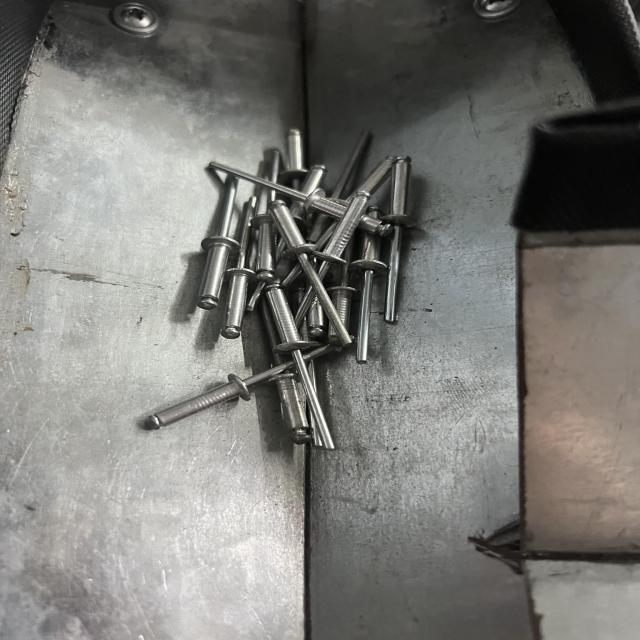rivet: (264, 284, 340, 452), (198, 170, 228, 308)
